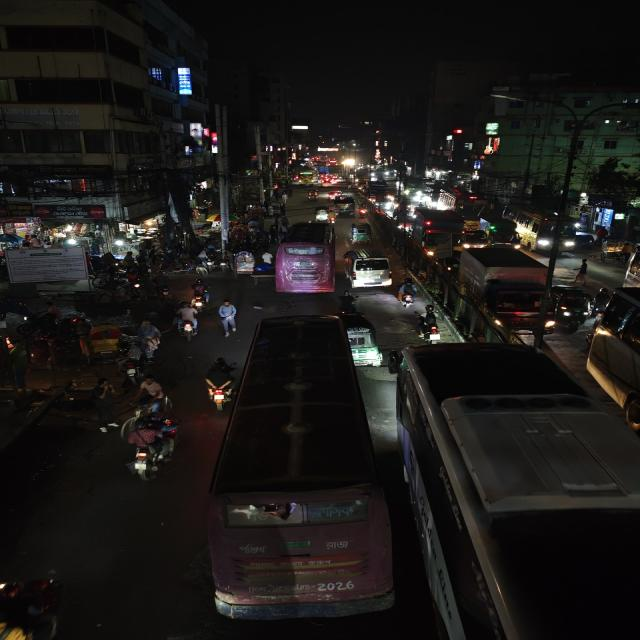bus: (398, 343, 640, 640), (204, 314, 390, 632), (591, 284, 640, 444), (274, 219, 338, 300), (505, 204, 586, 252)
car: (342, 246, 396, 290), (460, 227, 489, 249)
cng: (341, 312, 384, 367), (552, 282, 594, 332), (346, 221, 373, 244), (312, 205, 333, 222)
motorcycle: (117, 418, 180, 483), (94, 264, 146, 302), (130, 394, 180, 430), (201, 356, 234, 410), (130, 383, 167, 421), (118, 344, 150, 386), (414, 303, 444, 341), (171, 302, 198, 341), (395, 278, 419, 309), (151, 269, 174, 301), (188, 278, 211, 309), (338, 291, 360, 313)
pedestrian: (132, 376, 168, 420), (215, 300, 240, 336), (89, 376, 115, 410), (338, 290, 360, 314)
rickshaw: (76, 323, 128, 365), (228, 248, 258, 276)
truck: (456, 245, 557, 333), (413, 207, 466, 258)
